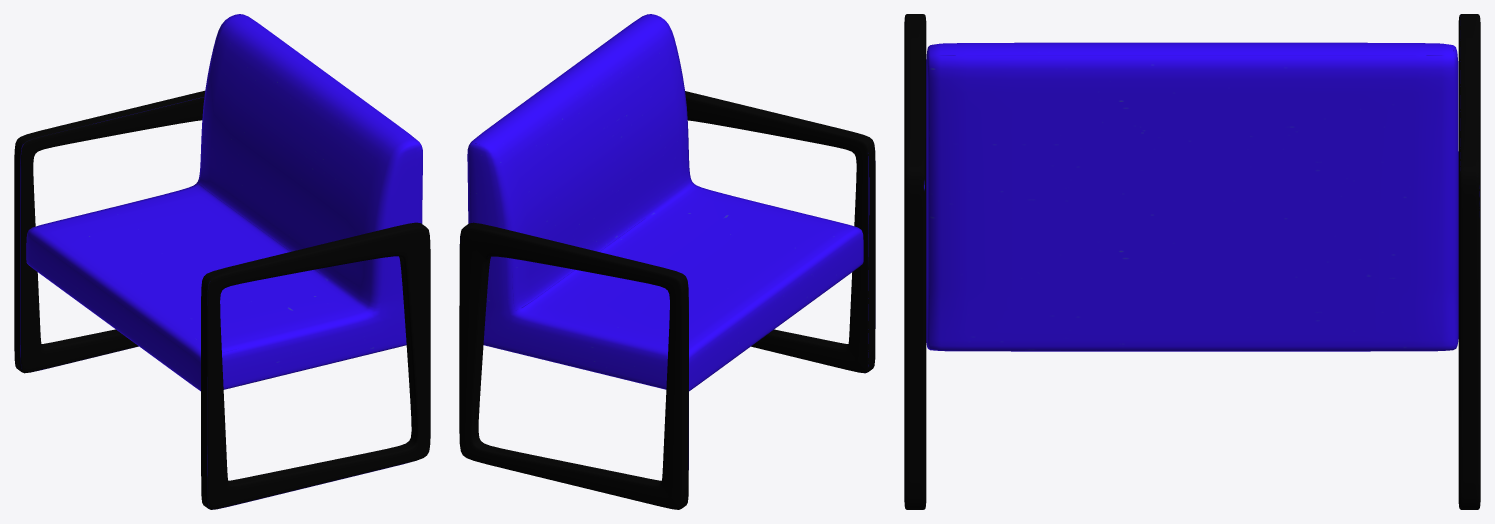
3 renders of one model, left to right at view 1: azimuth 30°, elevation 25°; view 2: azimuth 150°, elevation 25°; view 3: azimuth 270°, elevation 25°, orthographic. The views are drawn at different scales.
Visible parts, largest first — view 1: Plane.007_Plane.006; view 2: Plane.007_Plane.006; view 3: Plane.007_Plane.006.
Part boxes in pixels (x1=…): Plane.007_Plane.006: x1=14, y1=14, x2=430, y2=509; Plane.007_Plane.006: x1=459, y1=14, x2=875, y2=509; Plane.007_Plane.006: x1=904, y1=14, x2=1480, y2=509.
Bounding box in the file's own units: 9.47 × 12.46 × 14.04.
Materials: 1 (1 with a texture image).
